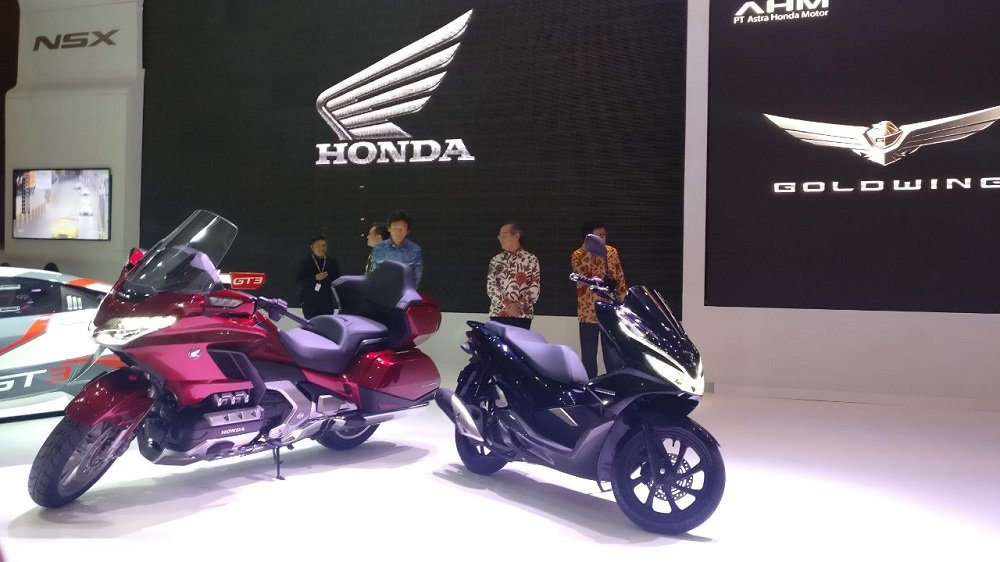motor: (41, 277, 449, 508), (454, 318, 728, 550)
